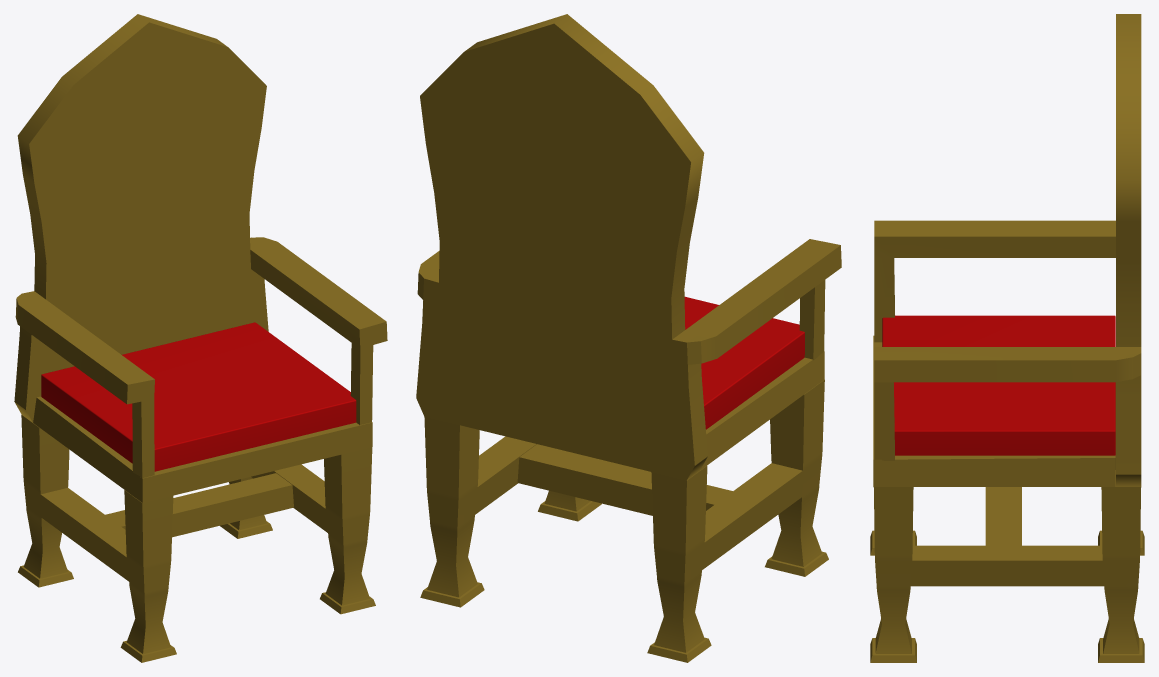
Rendered from DiningHallChair.fbx.
The picture shows the model from 3 angles, left to right: view 1: azimuth 30°, elevation 25°; view 2: azimuth 150°, elevation 25°; view 3: azimuth 270°, elevation 25°; orthographic projection. The views are drawn at different scales.
Visible parts, largest first — view 1: pCube93; view 2: pCube93; view 3: pCube93.
Boxes of the visible parts, left/top/right/bottom form: pCube93: left=14, top=14, right=387, bottom=662; pCube93: left=416, top=14, right=841, bottom=662; pCube93: left=870, top=14, right=1144, bottom=662.
Bounding box in the file's own units: 2.31 × 4.49 × 1.9.
